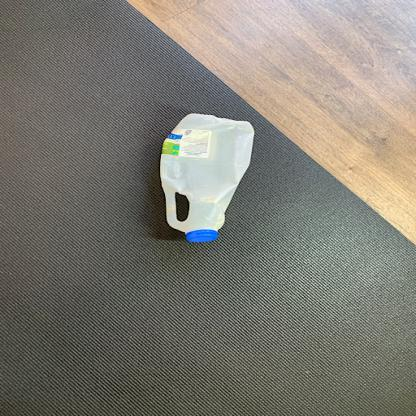trash: (158, 110, 256, 244)
